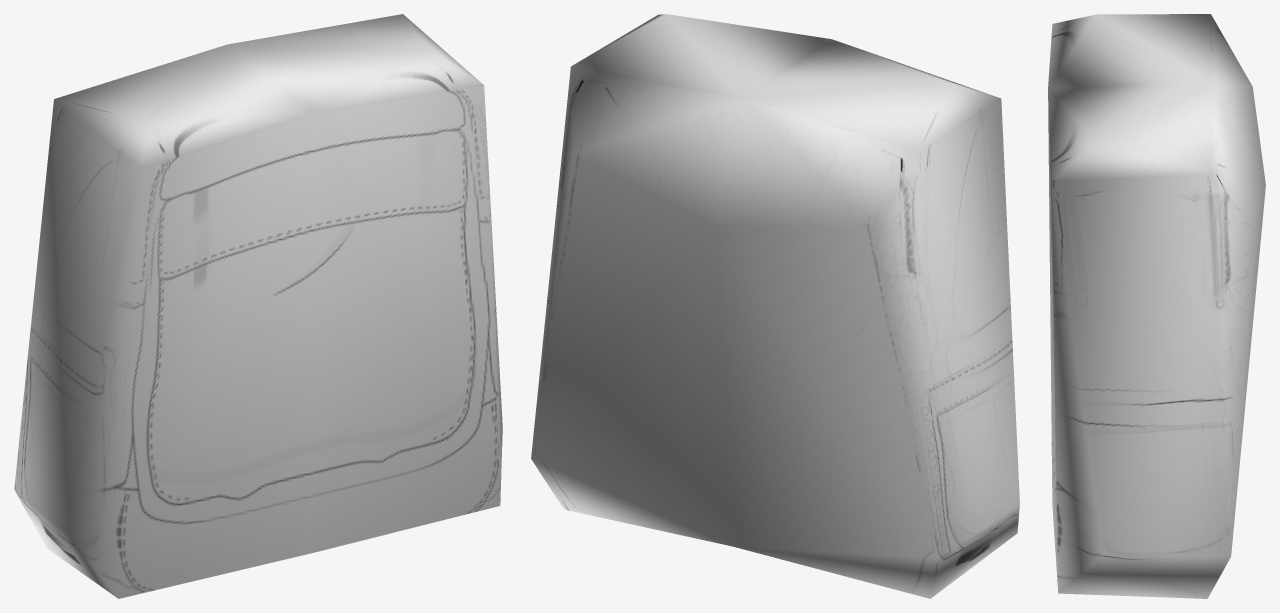
File: CE_Backpack.glb
3 views of the same model, side by side, from view 1: azimuth 30°, elevation 25°; view 2: azimuth 150°, elevation 25°; view 3: azimuth 270°, elevation 25° (orthographic). The views are drawn at different scales.
Parts seen in each view (by area): view 1: CE_Backpack; view 2: CE_Backpack; view 3: CE_Backpack.
Boxes of the visible parts, x1,y1,x2,y2 form: CE_Backpack: (14,14,502,598); CE_Backpack: (531,14,1019,598); CE_Backpack: (1048,14,1265,598).
Size of the model in its own units: 4.82 by 5.02 by 2.22.
Materials: 1 (1 with a texture image).
